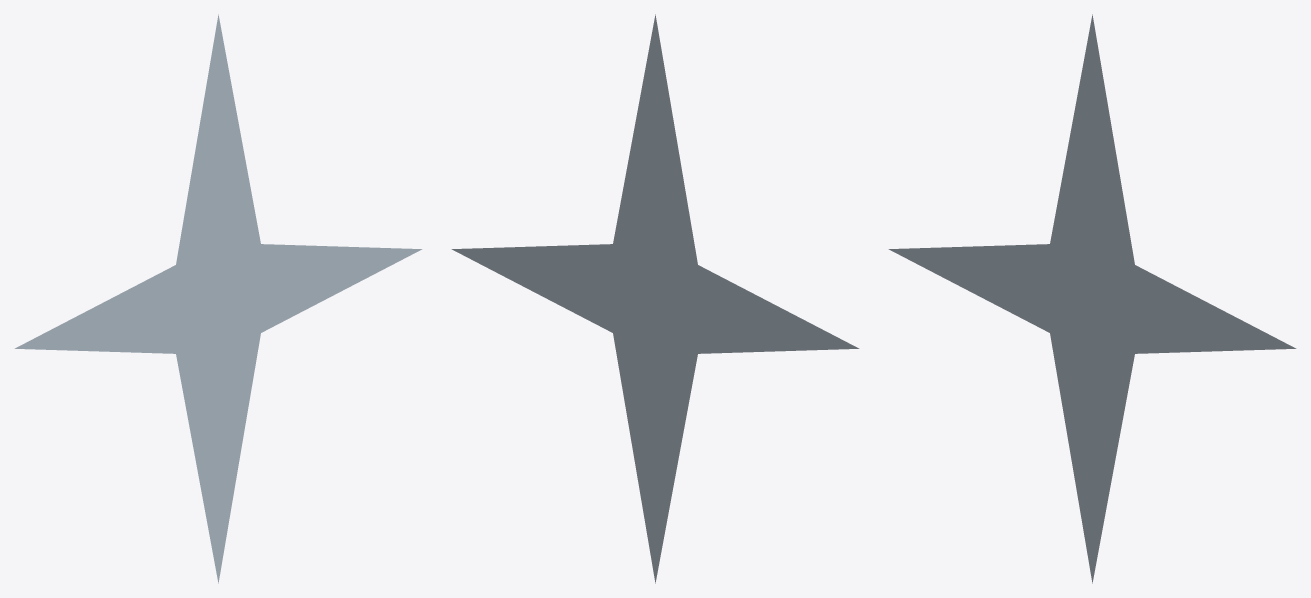
The model's file is Eula_LightfallSwordState_StackFeedback_SwordGlint.fbx.
The picture shows the model from 3 angles, left to right: view 1: azimuth 30°, elevation 25°; view 2: azimuth 150°, elevation 25°; view 3: azimuth 330°, elevation 25°; orthographic projection.
Visible parts, largest first — view 1: PART_SwordFourPointGlint; view 2: PART_SwordFourPointGlint; view 3: PART_SwordFourPointGlint.
Boxes of the visible parts, x1,y1,x2,y2 form: PART_SwordFourPointGlint: (14,14,422,583); PART_SwordFourPointGlint: (451,14,859,583); PART_SwordFourPointGlint: (888,14,1296,583).
Bounding box in the file's own units: 24 × 32 × 5.21e-06.
